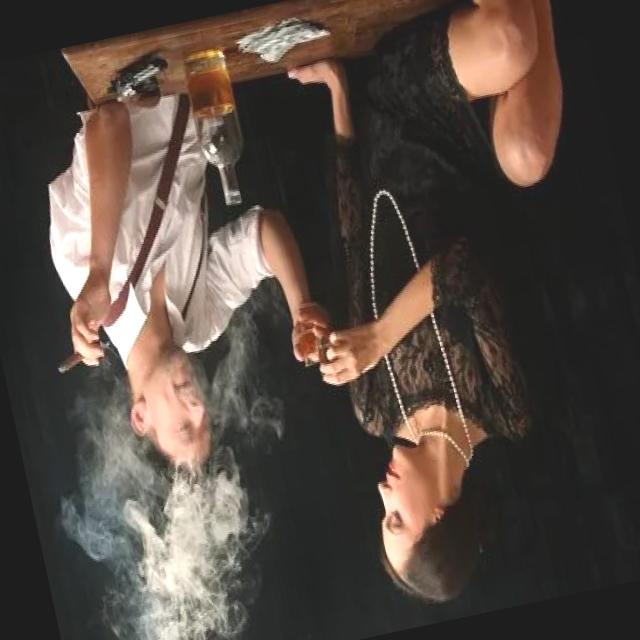smoke: (49, 333, 112, 382)
